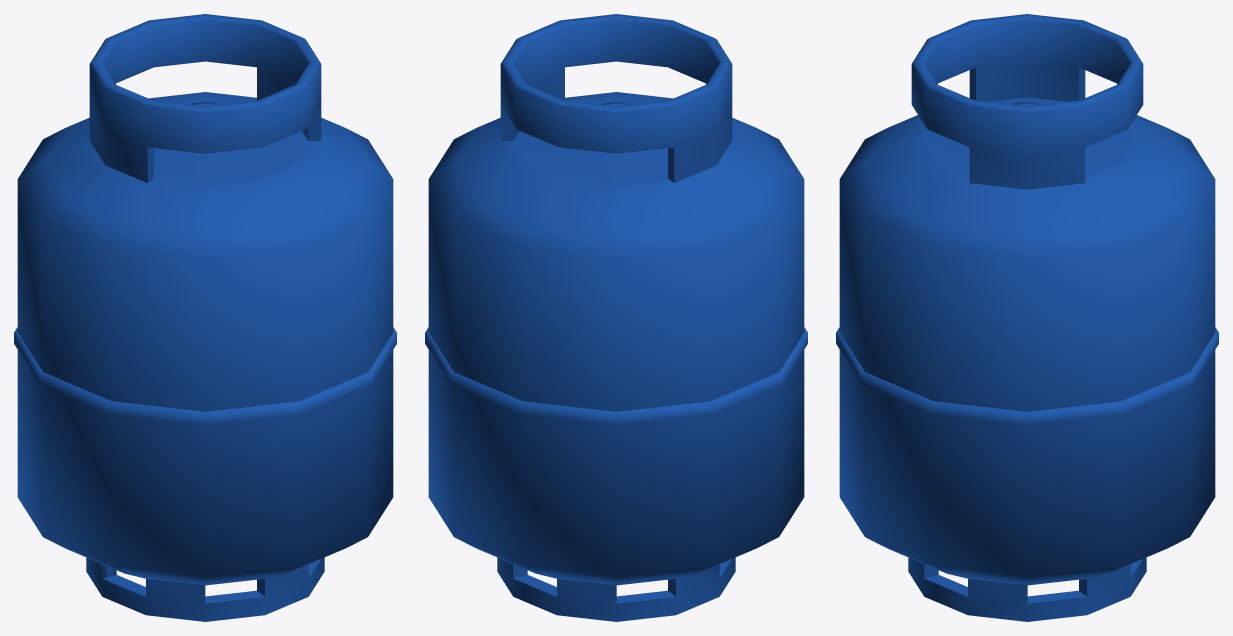
File: botijao.FBX
The picture shows the model from 3 angles, left to right: view 1: azimuth 30°, elevation 25°; view 2: azimuth 150°, elevation 25°; view 3: azimuth 270°, elevation 25°; orthographic projection.
Visible parts, largest first — view 1: Cylinder001; view 2: Cylinder001; view 3: Cylinder001.
Boxes of the visible parts, box(x1,y1,x2,y2) form: Cylinder001: box(14, 14, 396, 621); Cylinder001: box(425, 14, 807, 621); Cylinder001: box(836, 14, 1218, 621).
Bounding box in the file's own units: 34.31 × 50.43 × 34.31.
